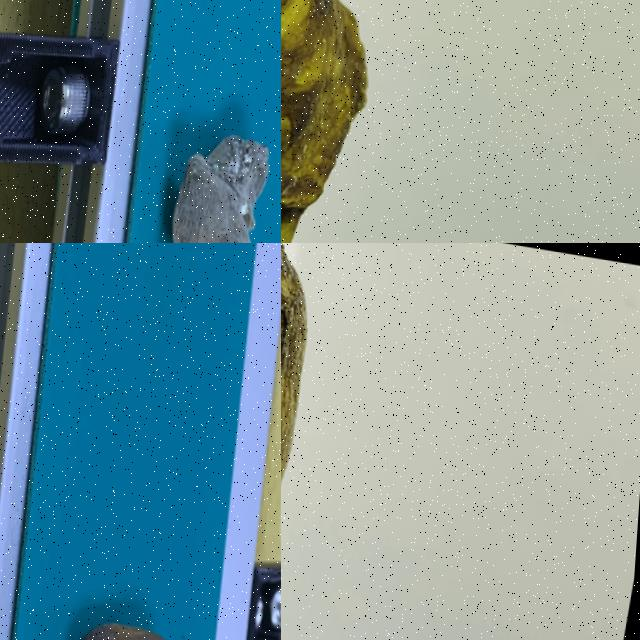Agglomerated_cocoabeans: (281, 243, 376, 639), (281, 0, 435, 242), (121, 29, 280, 242)
Fine_cocoabeans: (37, 537, 221, 639)
